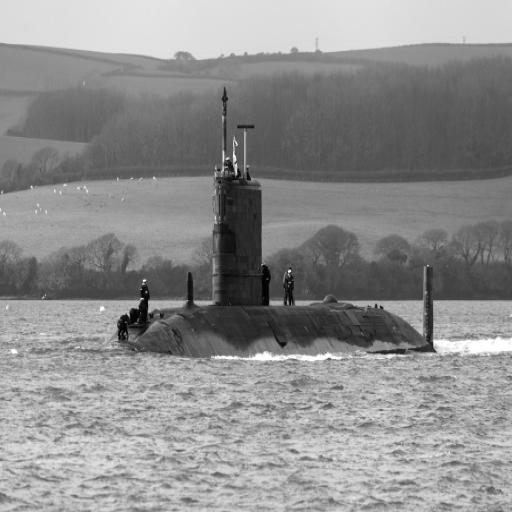submarine: (99, 91, 436, 352)
